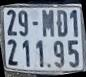-: (32, 19, 39, 26)
.: (47, 63, 51, 69)
1: (70, 9, 79, 39), (22, 39, 31, 67), (35, 39, 44, 67)
2: (7, 38, 19, 67), (6, 10, 18, 37)
5: (67, 39, 80, 68)
9: (53, 41, 65, 68), (18, 9, 29, 37)
D: (56, 9, 68, 38)
M: (41, 9, 55, 38)
